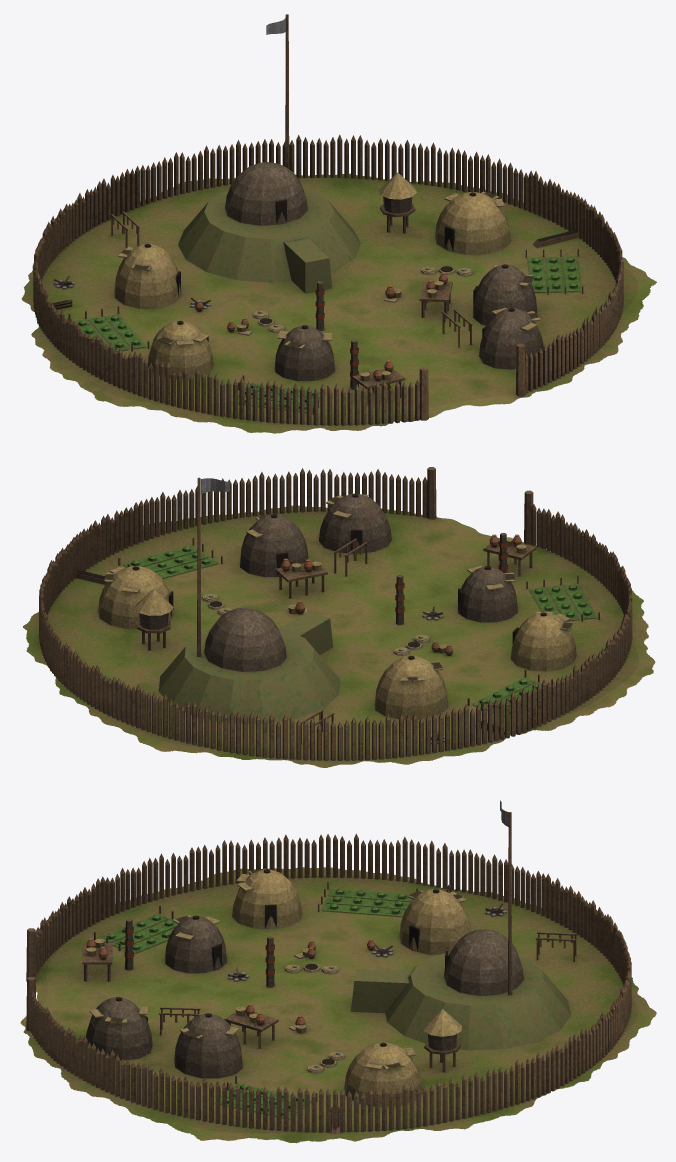
The model's file is stone-town-small-a-americas.glb.
3 renders of one model, top to bottom at view 1: azimuth 30°, elevation 25°; view 2: azimuth 150°, elevation 25°; view 3: azimuth 270°, elevation 25°, orthographic. The views are drawn at different scales.
Parts seen in each view (by area): view 1: LOD0; view 2: LOD0; view 3: LOD0.
Boxes of the visible parts, bbox=[...] form: LOD0: bbox=[21, 14, 656, 433]; LOD0: bbox=[23, 467, 655, 767]; LOD0: bbox=[20, 800, 656, 1143].
Size of what is drawn, in the model's own units: 3.97 by 1.45 by 3.87.
3 materials, 3 textured.
